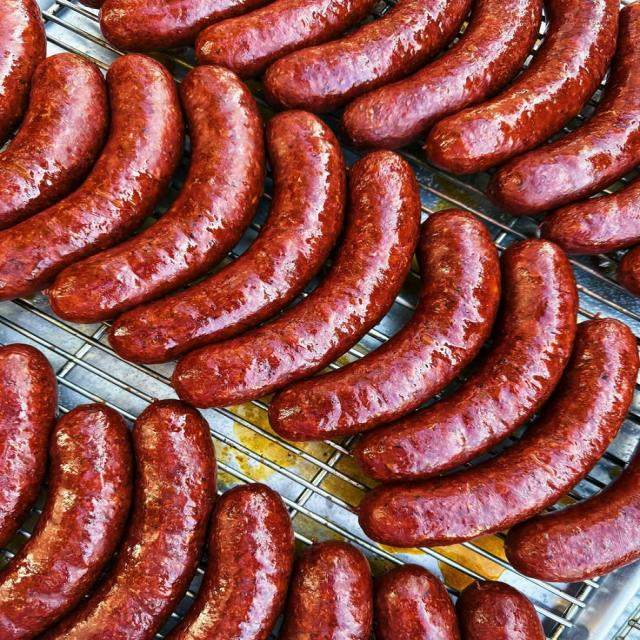sausage: (358, 319, 638, 547), (173, 152, 420, 406), (109, 112, 346, 363), (49, 67, 265, 322), (354, 240, 578, 482), (269, 210, 499, 441), (0, 55, 183, 300), (46, 400, 216, 639), (426, 0, 619, 173), (487, 3, 639, 215), (0, 405, 133, 639), (341, 0, 542, 148), (264, 0, 471, 112), (167, 484, 293, 639), (0, 53, 109, 230), (506, 453, 639, 582), (196, 0, 376, 77), (0, 344, 57, 548), (279, 541, 373, 639), (98, 0, 272, 52), (540, 179, 639, 254), (0, 0, 46, 145), (374, 565, 459, 639), (456, 581, 545, 639), (616, 245, 639, 297), (79, 0, 105, 8)
